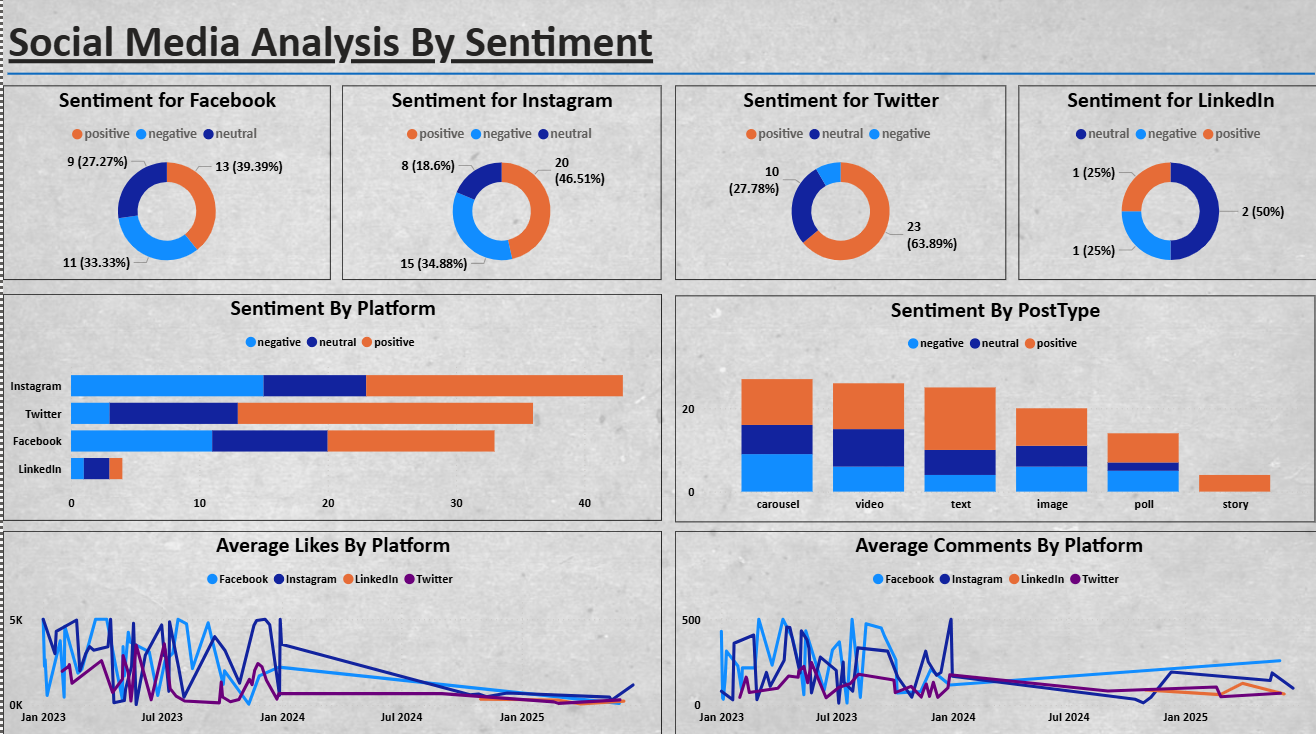

The page's visual inventory and layout, read from the dashboard file:
{"tool":"powerbi","page":{"name":"Sentiment_Analysis","canvas":[1280,720],"ordinal":1},"visuals":[{"type":"donutChart","title":"Sentiment for Facebook","fields":{"Y":["All_Measures.Facebook_Posts"],"Category":["social_media_posts.Sentiment_Score"]},"box":[0,89.4,318,188.8],"z":0},{"type":"donutChart","title":"Sentiment for Twitter","fields":{"Category":["social_media_posts.Sentiment_Score"],"Y":["All_Measures.Twitter_Posts"]},"box":[652.7,89.4,321.4,188.8],"z":1000},{"type":"donutChart","title":"Sentiment for LinkedIn","fields":{"Category":["social_media_posts.Sentiment_Score"],"Y":["All_Measures.LinkedIn_Posts"]},"box":[985.6,89.4,294.9,188.8],"z":2000},{"type":"donutChart","title":"Sentiment for Instagram","fields":{"Y":["All_Measures.Instagram_Posts"],"Category":["social_media_posts.Sentiment_Score"]},"box":[329.6,89.4,309.8,188.8],"z":3000},{"type":"barChart","title":"Sentiment By Platform","fields":{"Category":["social_media_posts.Platform_Type"],"Y":["CountNonNull(social_media_posts.Sentiment_Score)"],"Series":["social_media_posts.Sentiment_Score"]},"box":[0,291.5,639.4,220.3],"z":4000},{"type":"textbox","box":[0,14.9,652.7,62.9],"z":5000},{"type":"shape","box":[5,69.6,1268.9,14.9],"z":6000},{"type":"columnChart","title":"Sentiment By PostType","fields":{"Category":["social_media_posts.Post_Type"],"Y":["CountNonNull(social_media_posts.Sentiment_Score)"],"Series":["social_media_posts.Sentiment_Score"]},"box":[652.7,293.2,621.2,220.3],"z":7000},{"type":"lineChart","title":"Average Likes By Platform","fields":{"Category":["Date.Date"],"Series":["social_media_posts.Platform_Type"],"Y":["Avg(social_media_posts.Likes_Count)"]},"box":[0,521.8,639.4,198.8],"z":8000},{"type":"lineChart","title":"Average Comments By Platform","fields":{"Category":["Date.Date"],"Series":["social_media_posts.Platform_Type"],"Y":["Avg(social_media_posts.Comments_Count)"]},"box":[652.7,521.8,627.8,198.8],"z":9000}]}

Visuals, with their boxes in screenshot pixels (x1, y1, x2, y2), scaled from the page's 1280x720 canvas onto the 1316x734 screenshot:
"Sentiment for Facebook" donutChart: box(0, 91, 327, 284)
"Sentiment for Twitter" donutChart: box(671, 91, 1001, 284)
"Sentiment for LinkedIn" donutChart: box(1013, 91, 1315, 284)
"Sentiment for Instagram" donutChart: box(339, 91, 657, 284)
"Sentiment By Platform" barChart: box(0, 297, 657, 522)
textbox: box(0, 15, 671, 79)
shape: box(5, 71, 1310, 86)
"Sentiment By PostType" columnChart: box(671, 299, 1310, 523)
"Average Likes By Platform" lineChart: box(0, 532, 657, 733)
"Average Comments By Platform" lineChart: box(671, 532, 1315, 733)
